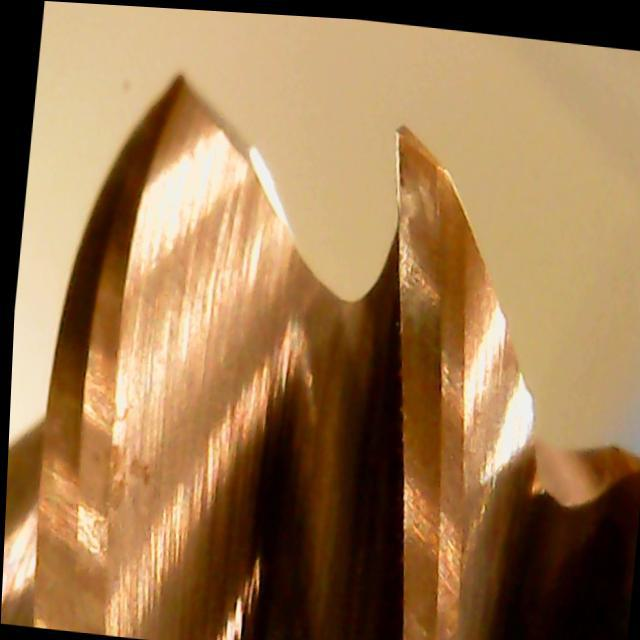Tool-wear-class-0: (352, 107, 486, 450)
